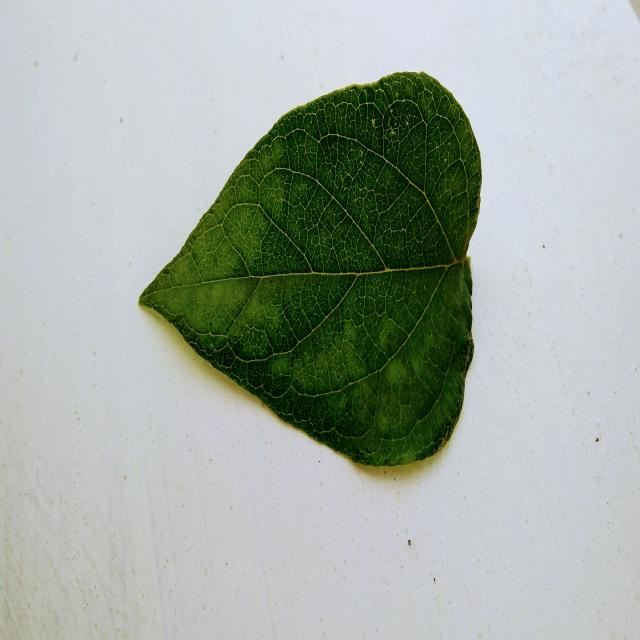Parijatha: (140, 73, 481, 467)
